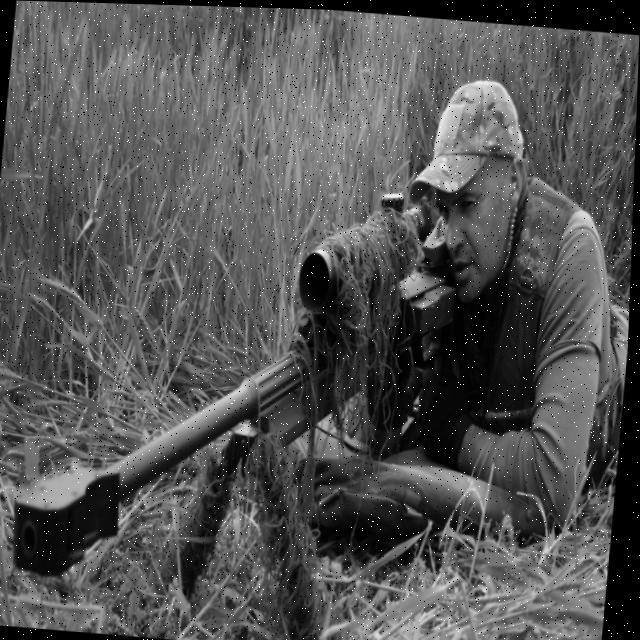firearm: (4, 160, 468, 640)
